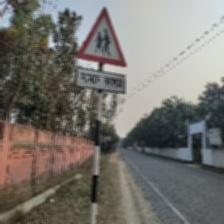College-in-front: (75, 0, 138, 90)
